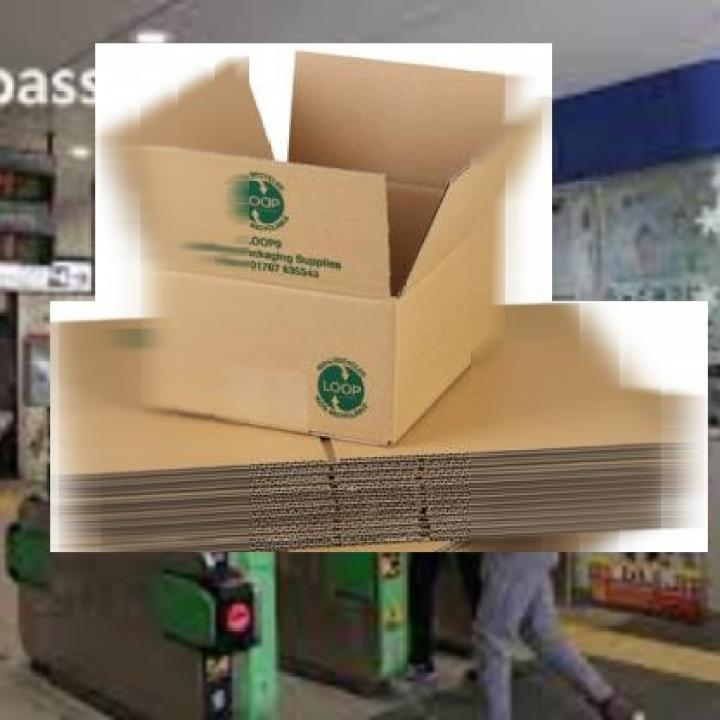box: (89, 38, 560, 447), (41, 298, 719, 557)
